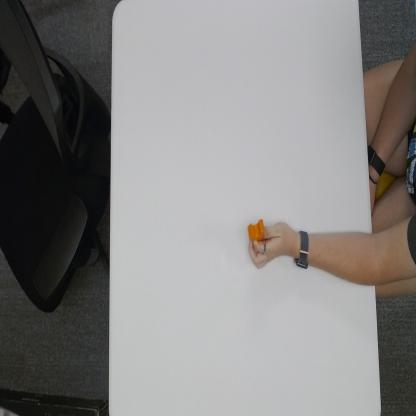Arm: (319, 224, 387, 293)
Hand: (248, 210, 292, 270)
Screwdriver: (244, 217, 267, 244)
